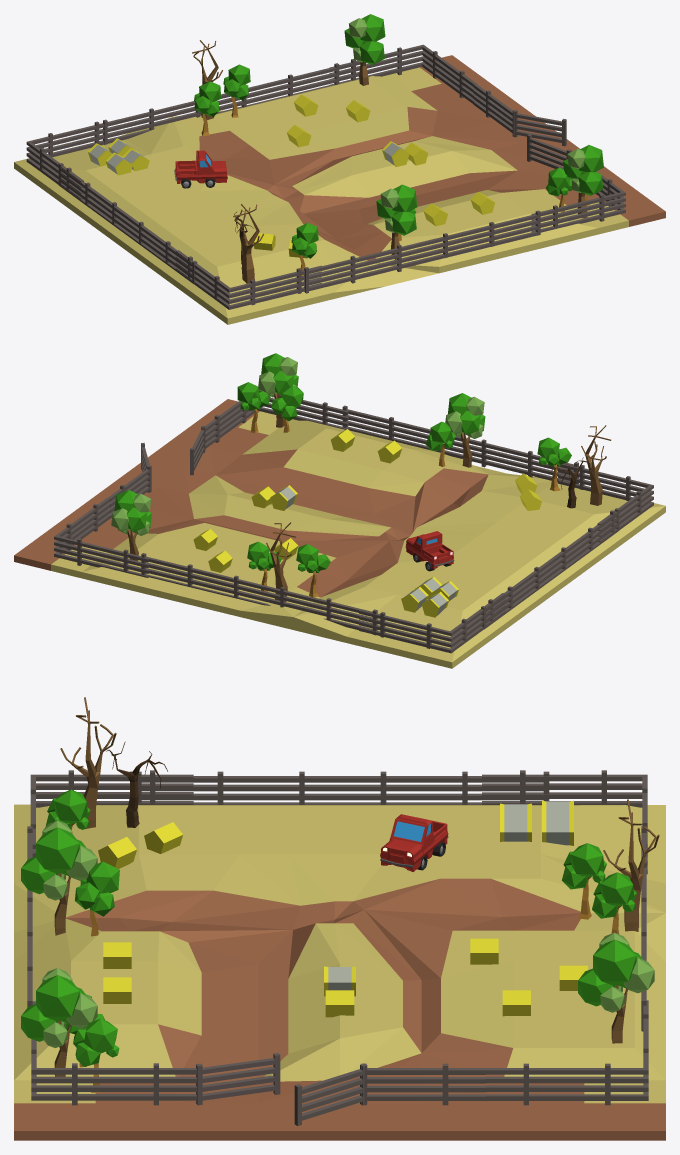
Rendered from FarmLand(Tiny Farm).fbx.
3 renders of one model, top to bottom at view 1: azimuth 30°, elevation 25°; view 2: azimuth 150°, elevation 25°; view 3: azimuth 270°, elevation 25°, orthographic. The views are drawn at different scales.
Visible parts, largest first — view 1: Cube; view 2: Cube; view 3: Cube.
Boxes of the visible parts, bbox=[...] form: Cube: bbox=[14, 14, 665, 324]; Cube: bbox=[14, 353, 665, 668]; Cube: bbox=[14, 697, 665, 1140].
Size of the model in its own units: 14200 by 2942 by 12000.
